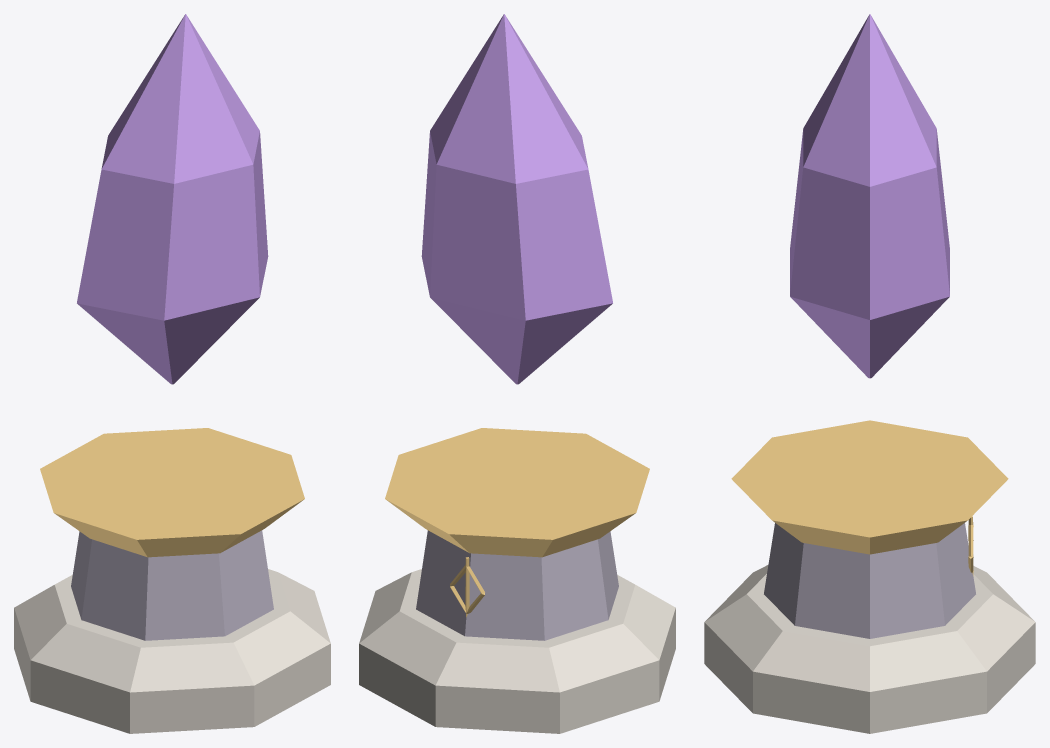
Rendered from arcane_core.glb.
3 views of the same model, side by side, from view 1: azimuth 30°, elevation 25°; view 2: azimuth 150°, elevation 25°; view 3: azimuth 270°, elevation 25° (orthographic).
Parts seen in each view (by area): view 1: Crystal, PedestalFoot, PedestalCrown, Pedestal; view 2: Crystal, PedestalFoot, PedestalCrown, Pedestal; view 3: Crystal, PedestalFoot, PedestalCrown, Pedestal.
Boxes of the visible parts, box(x1,y1,x2,y2) form: Crystal: box(77, 14, 268, 384); PedestalFoot: box(14, 569, 330, 733); PedestalCrown: box(40, 428, 304, 557); Pedestal: box(71, 530, 273, 640); Crystal: box(421, 14, 612, 384); PedestalFoot: box(359, 569, 675, 733); PedestalCrown: box(385, 428, 649, 557); Pedestal: box(416, 530, 618, 640); Crystal: box(790, 14, 949, 378); PedestalFoot: box(704, 565, 1035, 733); PedestalCrown: box(731, 420, 1008, 554); Pedestal: box(764, 523, 975, 638).
Size of the model in its own units: 0.86 by 1.88 by 0.86.
